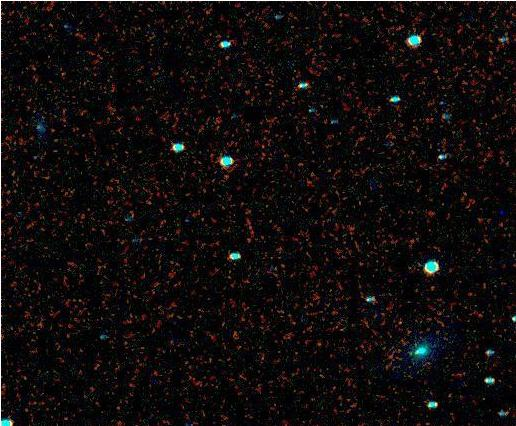star: (486, 196, 516, 226)
